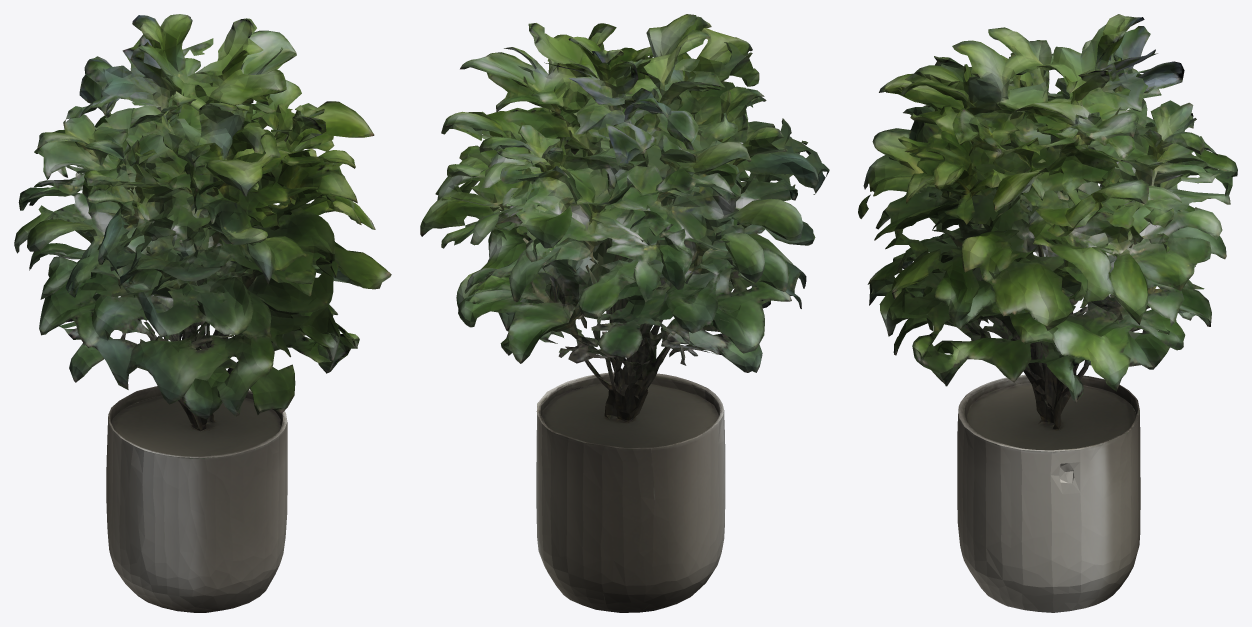
The picture shows the model from 3 angles, left to right: view 1: azimuth 30°, elevation 25°; view 2: azimuth 150°, elevation 25°; view 3: azimuth 270°, elevation 25°; orthographic projection. The views are drawn at different scales.
Visible parts, largest first — view 1: world; view 2: world; view 3: world.
Part boxes in pixels (x1=…): world: x1=14, y1=14, x2=391, y2=612; world: x1=420, y1=14, x2=829, y2=612; world: x1=858, y1=14, x2=1237, y2=612.
Bounding box in the file's own units: 0.6354 × 1 × 0.6149.
Materials: 1 (1 with a texture image).
